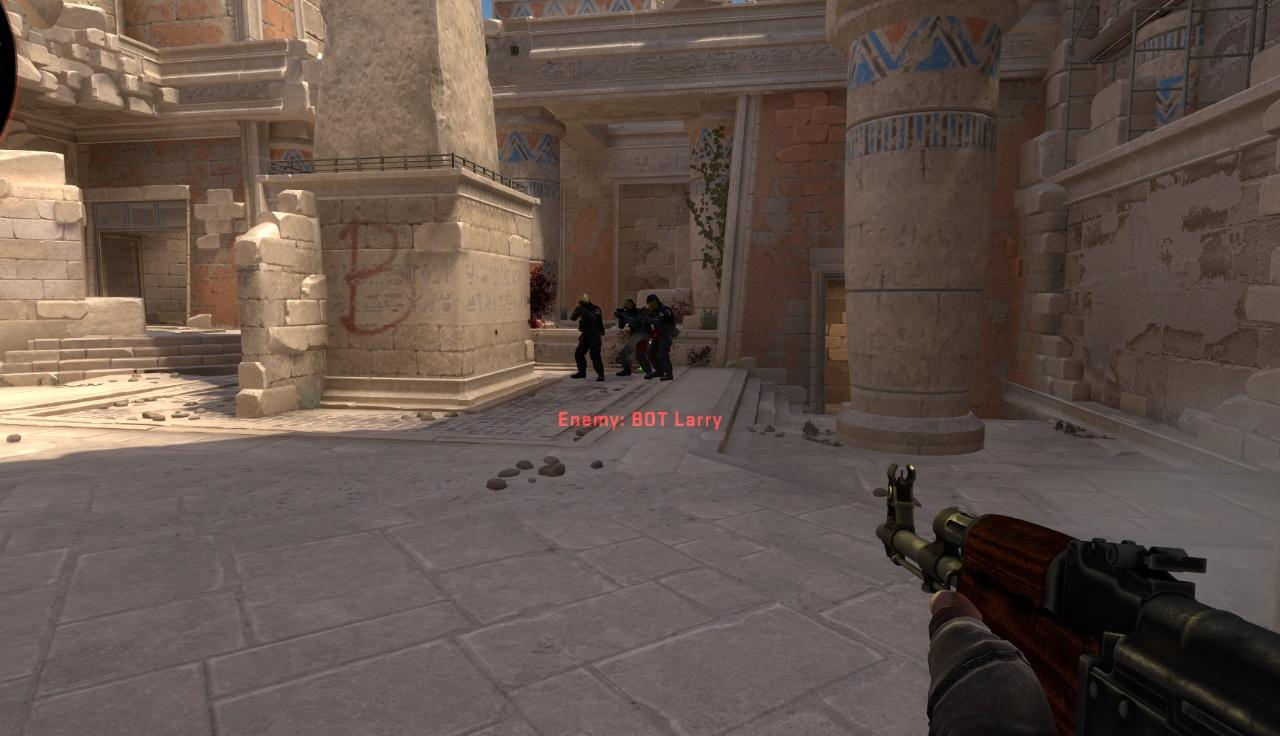ct: (648, 292, 676, 384), (575, 294, 602, 381), (617, 299, 647, 376)
cthead: (646, 294, 660, 310), (623, 299, 637, 313), (578, 293, 590, 308)
rifle: (883, 470, 1280, 736)
